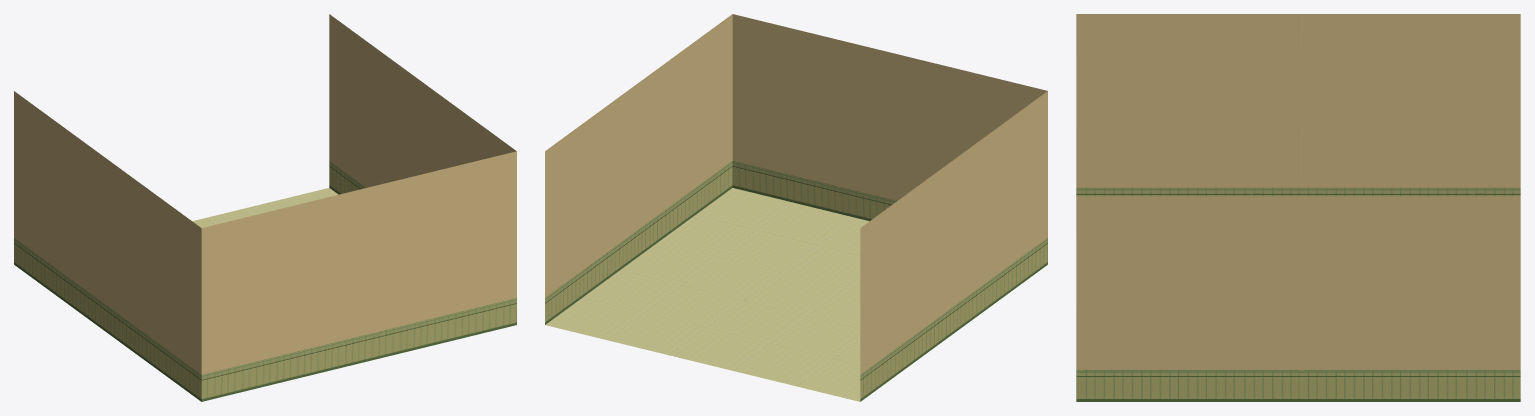
3 views of the same model, side by side, from view 1: azimuth 30°, elevation 25°; view 2: azimuth 150°, elevation 25°; view 3: azimuth 270°, elevation 25° (orthographic). The views are drawn at different scales.
Parts seen in each view (by area): view 1: BG4; view 2: BG4; view 3: BG4.
Part boxes in pixels (x1,y1,x2,y2): BG4: [14, 14, 516, 401]; BG4: [545, 14, 1047, 401]; BG4: [1076, 14, 1520, 401].
Bounding box in the file's own units: 18642 × 19205 × 9820.
